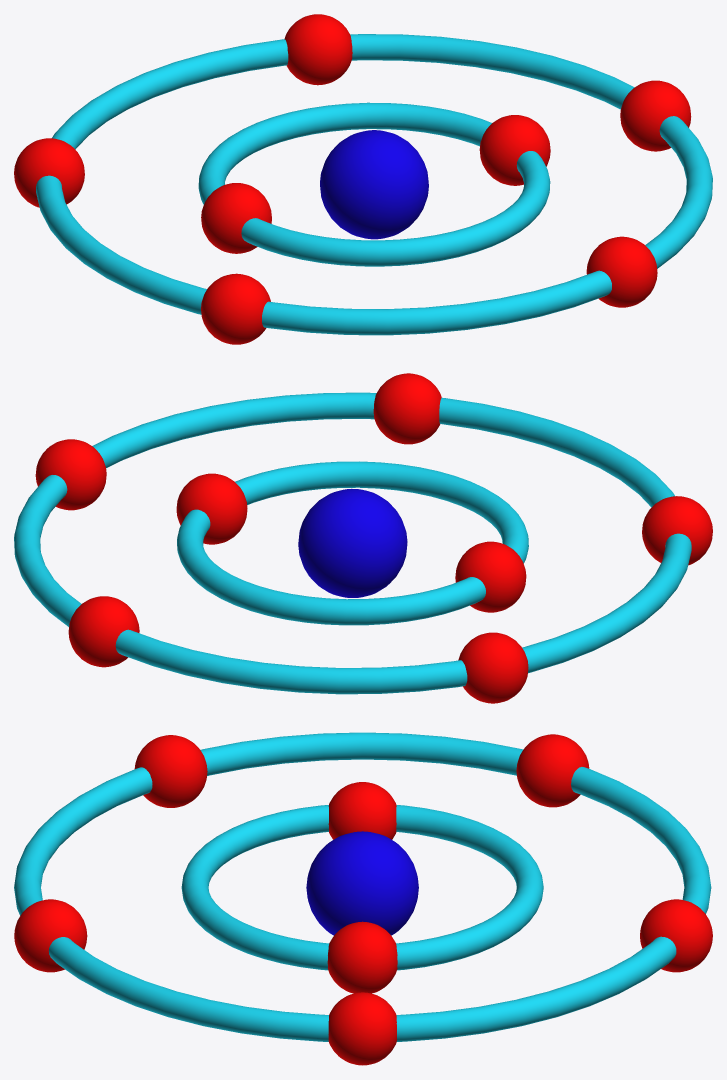
The model's file is NitrogenAtom3.FBX.
3 views of the same model, one above another, from view 1: azimuth 30°, elevation 25°; view 2: azimuth 150°, elevation 25°; view 3: azimuth 270°, elevation 25° (orthographic). The views are drawn at different scales.
Visible parts, largest first — view 1: Torus002, Torus001, Sphere001, Sphere008, Sphere006, Sphere005, Sphere003, Sphere004, Sphere002, Sphere007; view 2: Torus002, Torus001, Sphere001, Sphere005, Sphere007, Sphere008, Sphere003, Sphere004, Sphere002, Sphere006; view 3: Torus002, Torus001, Sphere001, Sphere004, Sphere002, Sphere006, Sphere007, Sphere008, Sphere005, Sphere003.
Boxes of the visible parts, <box> form: Torus002: <box>36,34,712,335</box>; Torus001: <box>198,102,550,266</box>; Sphere001: <box>320,130,428,239</box>; Sphere008: <box>284,14,352,85</box>; Sphere006: <box>201,273,270,344</box>; Sphere005: <box>586,236,657,307</box>; Sphere003: <box>201,183,271,253</box>; Sphere004: <box>620,80,691,151</box>; Sphere002: <box>479,115,550,185</box>; Sphere007: <box>14,138,84,207</box>; Torus002: <box>14,392,691,694</box>; Torus001: <box>177,461,528,625</box>; Sphere001: <box>298,488,407,597</box>; Sphere005: <box>373,373,441,444</box>; Sphere007: <box>458,632,528,703</box>; Sphere008: <box>68,596,139,667</box>; Sphere003: <box>455,541,526,612</box>; Sphere004: <box>35,439,106,510</box>; Sphere002: <box>176,473,247,544</box>; Sphere006: <box>642,496,712,565</box>; Torus002: <box>14,732,711,1041</box>; Torus001: <box>181,805,543,970</box>; Sphere001: <box>306,831,418,935</box>; Sphere004: <box>328,992,396,1065</box>; Sphere002: <box>327,921,397,993</box>; Sphere006: <box>134,735,207,807</box>; Sphere007: <box>516,734,589,807</box>; Sphere008: <box>640,899,712,972</box>; Sphere005: <box>14,899,87,972</box>; Sphere003: <box>328,782,396,839</box>.
Bounding box in the file's own units: 2557 × 400 × 2484.
